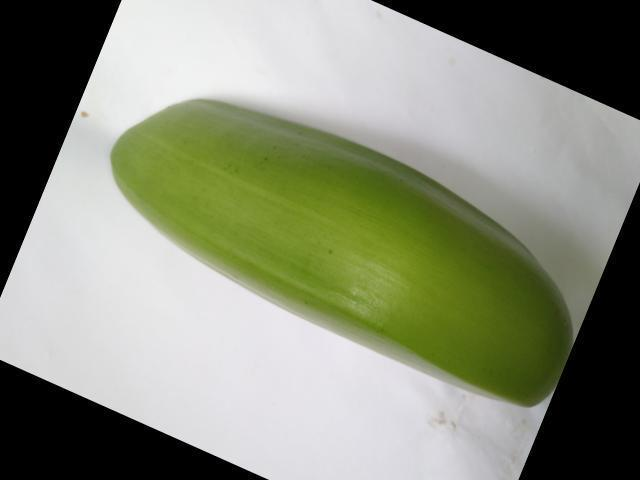freshunripe: (88, 79, 582, 416)
